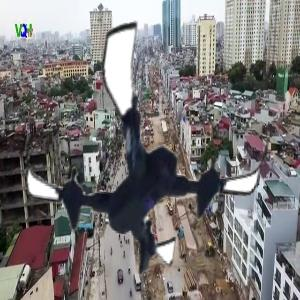drone: (16, 22, 275, 281)
